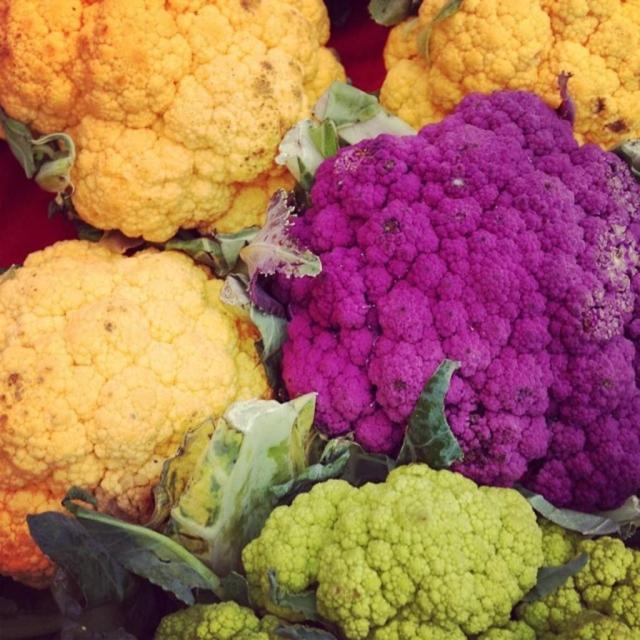Broccoli: (259, 90, 639, 504), (0, 241, 269, 576), (151, 463, 639, 639), (0, 0, 343, 240), (380, 0, 639, 148)
